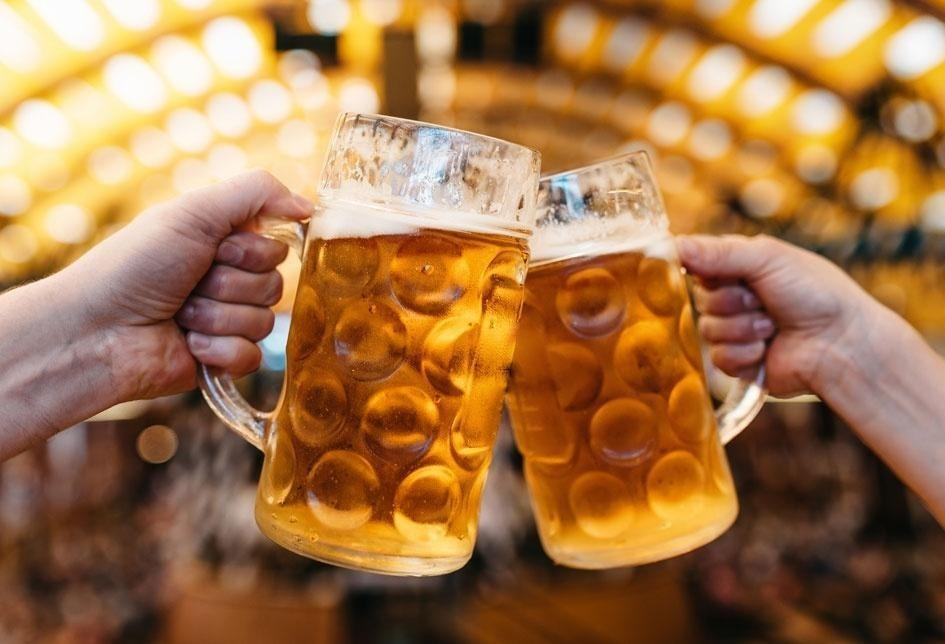glass-mug: (181, 106, 539, 587), (487, 142, 783, 577)
